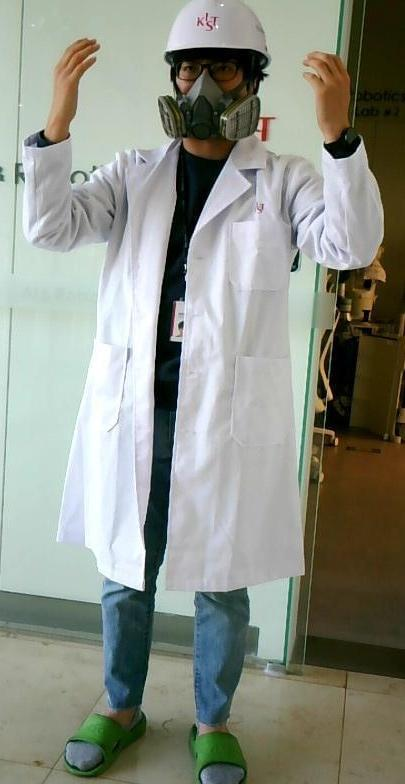lab_coat: (53, 155, 374, 578)
